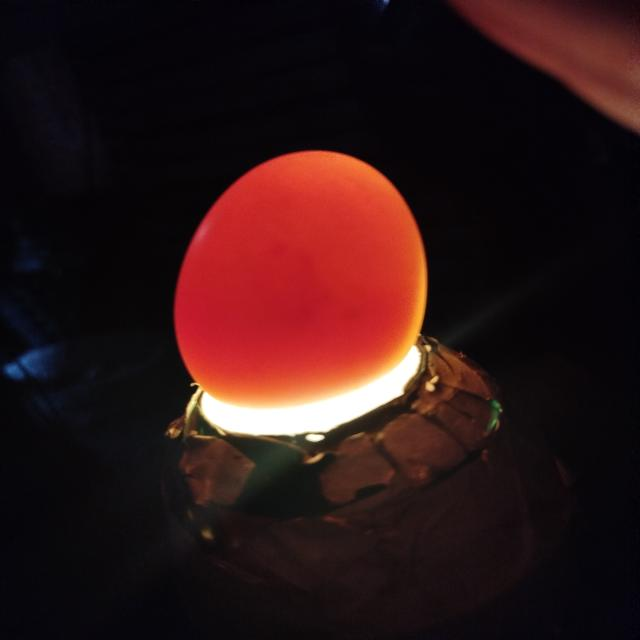Gema Quebrada: (173, 150, 422, 409)
